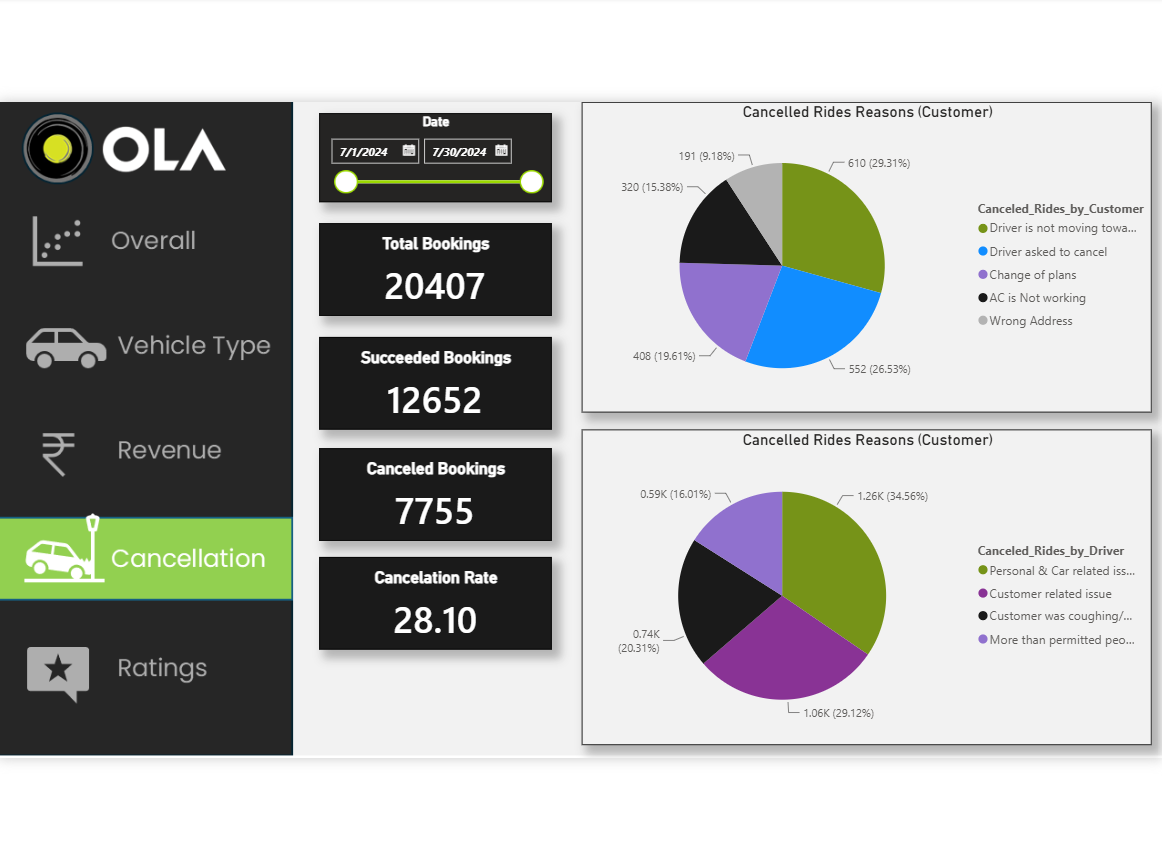

The dashboard page shown, as its layout file describes it:
{"tool":"powerbi","page":{"name":"Cancelation","canvas":[1280,720],"ordinal":3},"visuals":[{"type":"actionButton","box":[0,214.1,323.8,97.4],"z":0},{"type":"actionButton","box":[0,109.8,323.8,93.3],"z":1000},{"type":"actionButton","box":[0,337.6,323.8,91.9],"z":2000},{"type":"actionButton","box":[0,452.8,323.8,91.9],"z":3000},{"type":"actionButton","box":[0,580.4,323.8,91.9],"z":4000},{"type":"pieChart","title":"Cancelled Rides Reasons (Customer)","fields":{"Category":["ola bookings.Canceled_Rides_by_Customer"],"Y":["CountNonNull(ola bookings.Canceled_Rides_by_Customer)"]},"box":[640.1,0,625.8,340.8],"z":5000},{"type":"pieChart","title":"Cancelled Rides Reasons (Customer)","fields":{"Category":["ola bookings.Canceled_Rides_by_Driver"],"Y":["CountNonNull(ola bookings.Canceled_Rides_by_Driver)"]},"box":[640.1,359.5,625.8,346.6],"z":6000},{"type":"slicer","title":"Date","fields":{"Values":["ola bookings.Date"]},"box":[352.3,12.9,254.9,97.4],"z":7000},{"type":"cardVisual","title":"Total Bookings","fields":{"Data":["CountNonNull(ola bookings.Booking_ID)"]},"box":[352.3,133.2,254.9,101.7],"z":8000},{"type":"cardVisual","title":"Succeeded Bookings","fields":{"Data":["CountNonNull(ola bookings.Booking_ID)"]},"box":[352.3,257.8,254.9,101.7],"z":9000},{"type":"cardVisual","title":"Canceled Bookings","fields":{"Data":["CountNonNull(ola bookings.Booking_ID)"]},"box":[352.3,379.5,254.9,101.7],"z":10000},{"type":"cardVisual","title":"Cancelation Rate","fields":{"Data":["ola bookings.CANCELEDPERCENTAGE"]},"box":[352.7,499.5,255.2,101.5],"z":11000}]}

Visuals, with their boxes in screenshot pixels (x1, y1, x2, y2):
actionButton: <region>0, 293, 288, 383</region>
actionButton: <region>0, 196, 288, 282</region>
actionButton: <region>0, 407, 288, 492</region>
actionButton: <region>0, 514, 288, 599</region>
actionButton: <region>0, 633, 288, 718</region>
"Cancelled Rides Reasons (Customer)" pieChart: <region>582, 94, 1161, 410</region>
"Cancelled Rides Reasons (Customer)" pieChart: <region>582, 427, 1161, 749</region>
"Date" slicer: <region>315, 106, 551, 196</region>
"Total Bookings" cardVisual: <region>315, 217, 551, 312</region>
"Succeeded Bookings" cardVisual: <region>315, 333, 551, 427</region>
"Canceled Bookings" cardVisual: <region>315, 446, 551, 540</region>
"Cancelation Rate" cardVisual: <region>315, 557, 552, 652</region>
